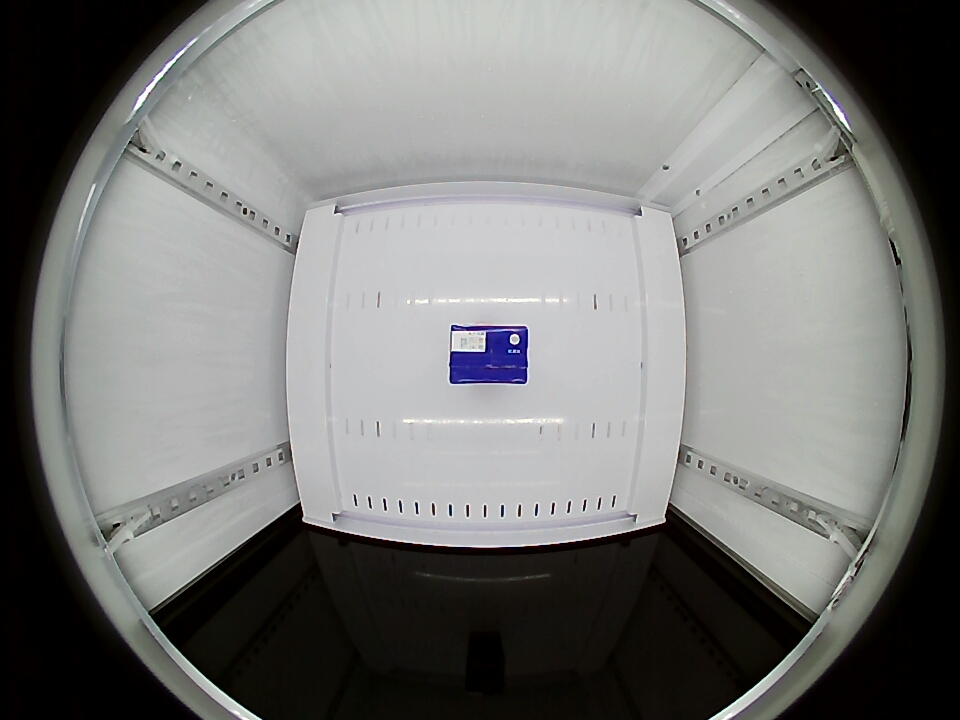bingqilinniunai: (449, 324, 531, 386)
